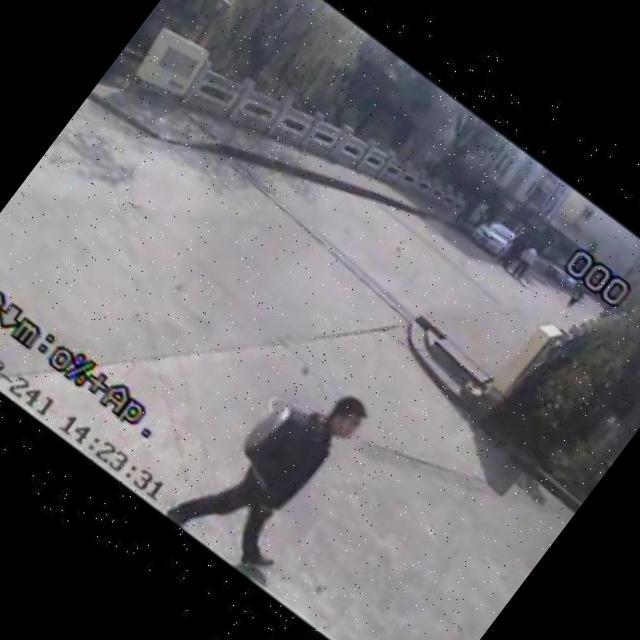person: (170, 350, 387, 584), (506, 240, 548, 285), (494, 232, 532, 272), (450, 195, 486, 236)
